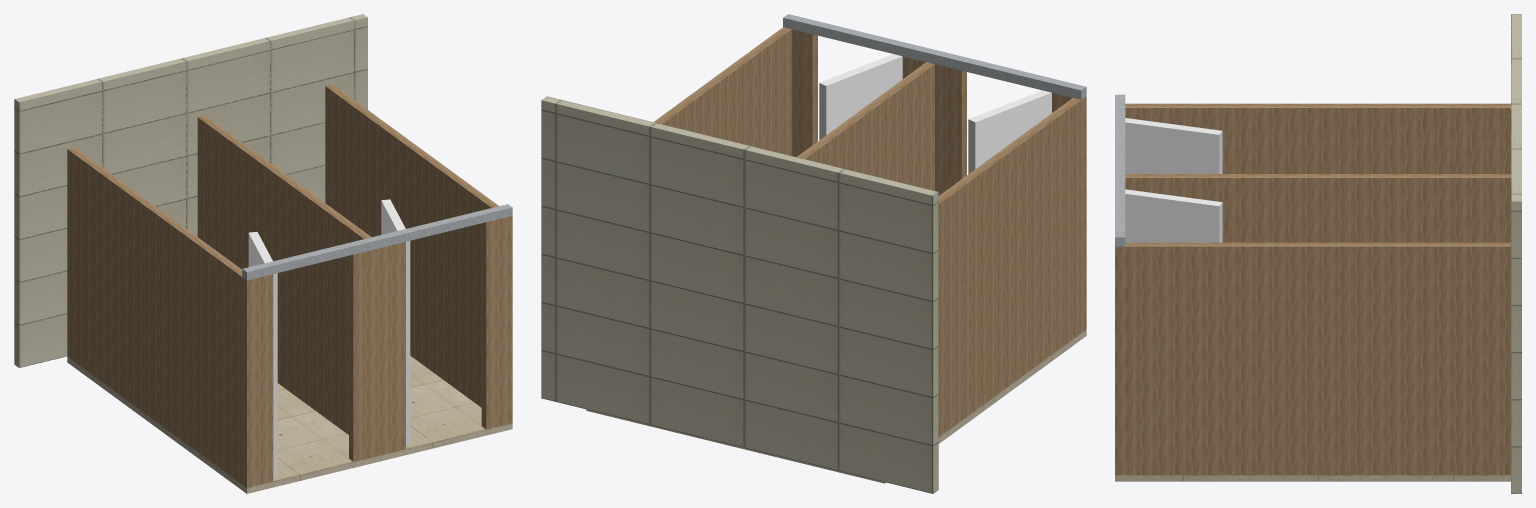
3 renders of one model, left to right at view 1: azimuth 30°, elevation 25°; view 2: azimuth 150°, elevation 25°; view 3: azimuth 270°, elevation 25°, orthographic. The views are drawn at different scales.
Parts seen in each view (by area): view 1: object 11, group_0, group_8, group_1, object 8, group_5, group_2, group_11, group_9, group_4, group_10; view 2: object 11, group_0, group_8, group_1, object 8, group_10, group_4, group_11, group_2, group_5; view 3: group_8, group_0, group_1, object 11, group_4, group_10, group_9, group_11.
Part boxes in pixels (x1,y1,x2,y2): object 11: [14, 14, 512, 367]; group_0: [67, 147, 242, 483]; group_8: [325, 84, 498, 407]; group_1: [197, 115, 371, 434]; object 8: [349, 242, 405, 461]; group_5: [67, 356, 379, 493]; group_2: [242, 274, 273, 487]; group_11: [481, 216, 512, 429]; group_9: [379, 356, 512, 461]; group_4: [248, 231, 277, 477]; group_10: [381, 199, 410, 445]; object 11: [541, 14, 1086, 493]; group_0: [938, 98, 1081, 436]; group_8: [653, 27, 791, 155]; group_1: [797, 62, 934, 190]; object 8: [902, 56, 966, 195]; group_10: [819, 54, 902, 139]; group_4: [968, 90, 1051, 173]; group_11: [791, 29, 817, 156]; group_2: [1052, 93, 1086, 332]; group_5: [735, 329, 1086, 483]; group_8: [1125, 242, 1510, 474]; group_0: [1125, 103, 1510, 173]; group_1: [1125, 174, 1510, 242]; object 11: [1115, 14, 1521, 493]; group_4: [1125, 118, 1222, 173]; group_10: [1125, 189, 1222, 242]; group_9: [1115, 475, 1510, 481]; group_11: [1115, 246, 1125, 474].
Bounding box in the file's own units: 197 × 146 × 180.
Materials: 8 (4 with a texture image).
